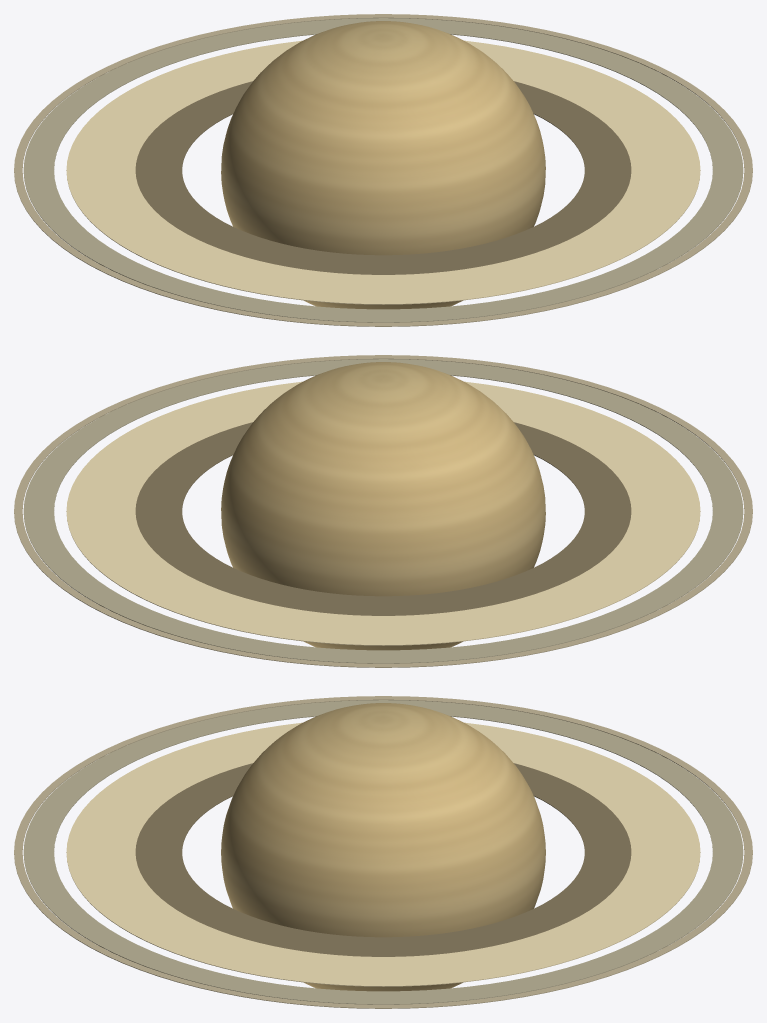
Rendered from saturn.glb.
3 views of the same model, one above another, from view 1: azimuth 30°, elevation 25°; view 2: azimuth 150°, elevation 25°; view 3: azimuth 270°, elevation 25° (orthographic).
Parts seen in each view (by area): view 1: model; view 2: model; view 3: model.
Boxes of the visible parts, x1,y1,x2,y2 form: model: [14, 14, 752, 326]; model: [14, 355, 752, 667]; model: [14, 696, 752, 1008].
Bounding box in the file's own units: 5.04 × 2 × 5.04.
5 materials, 5 textured.
